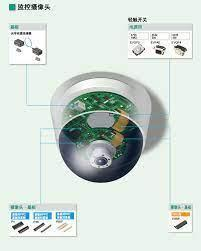maru: (44, 70, 153, 183)
